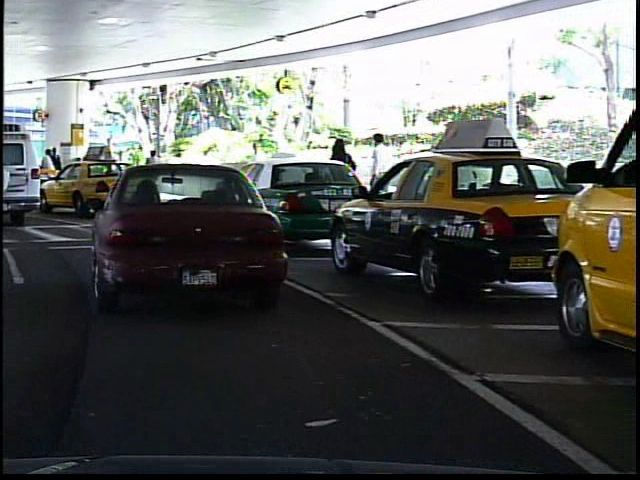person: (320, 131, 355, 231), (362, 128, 394, 227), (241, 136, 269, 208), (136, 145, 162, 198), (37, 146, 54, 198), (47, 145, 63, 197)
